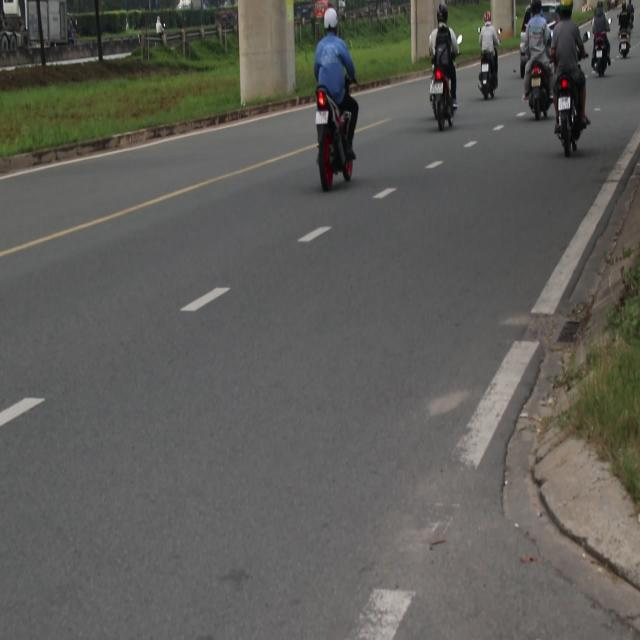car: (514, 8, 573, 74)
motorbike: (307, 82, 366, 198), (553, 66, 588, 156), (524, 57, 555, 120), (428, 61, 458, 120), (142, 6, 176, 53), (591, 27, 614, 77), (479, 46, 498, 101), (618, 30, 630, 60)
